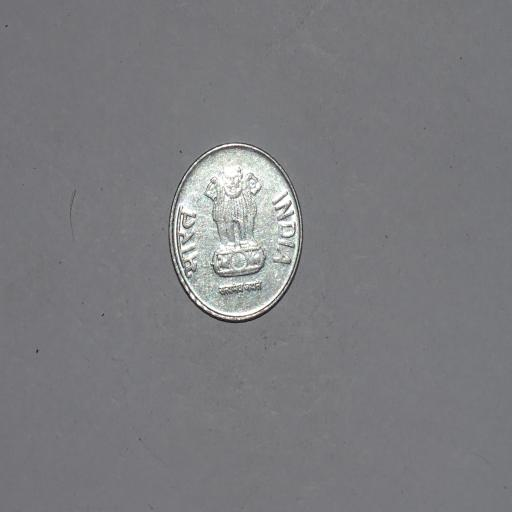rupee2: (165, 145, 306, 326)
